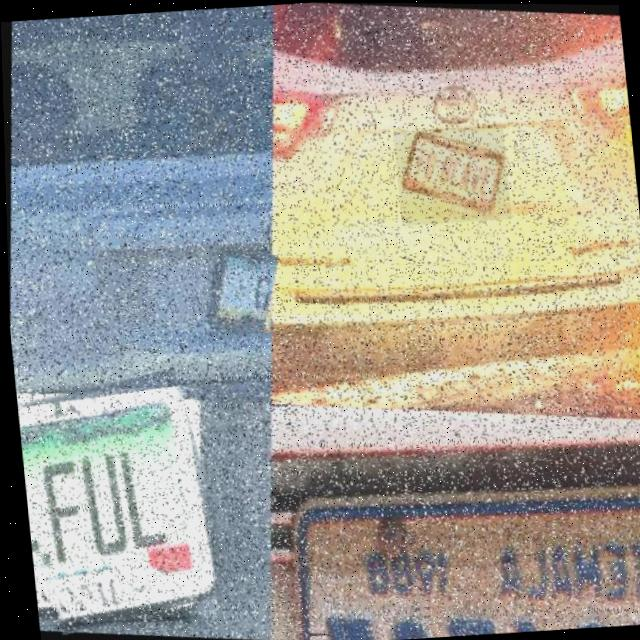LicensePlate: (15, 385, 213, 623), (299, 552, 640, 640), (398, 130, 505, 219), (202, 246, 276, 331)
